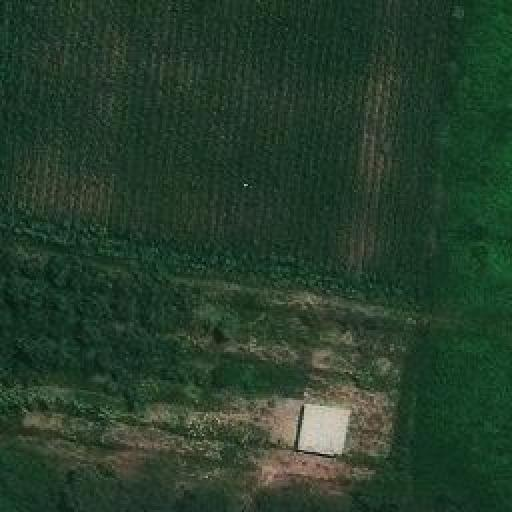manzanas: (289, 399, 356, 460)
